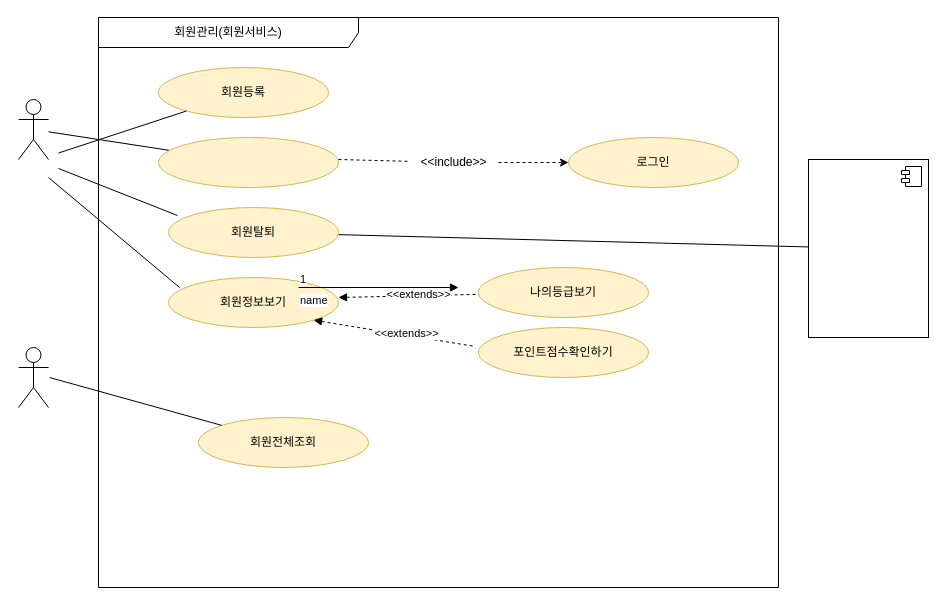
Image size: 946x605. Some labels were removed from this diagram. The shapes that lost their labels are listed below. From the top down, each one's centre as x and y in pixels, then its label:
point (33, 129): 이용자
point (248, 162): 회원정보수정
point (868, 248): DBMS
point (33, 377): 관리자
